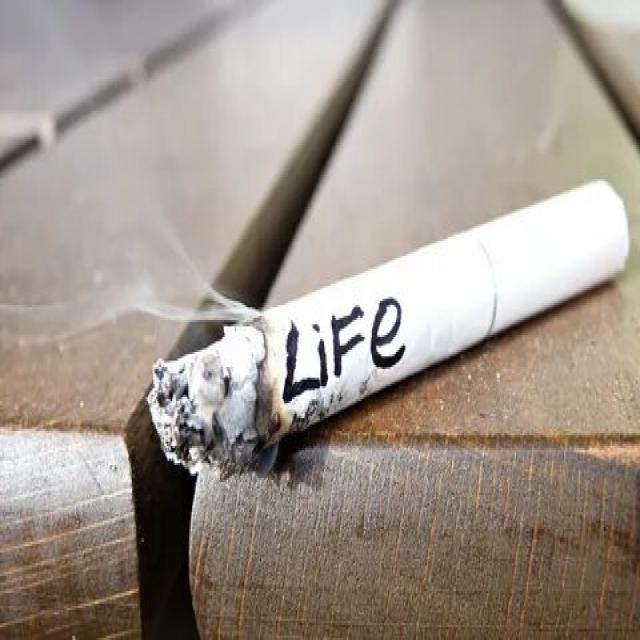cigarette: (140, 171, 635, 495)
